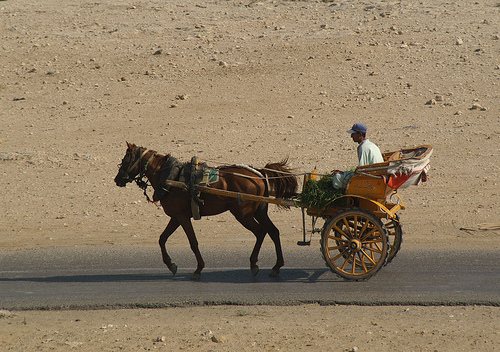horse: (115, 140, 299, 280)
